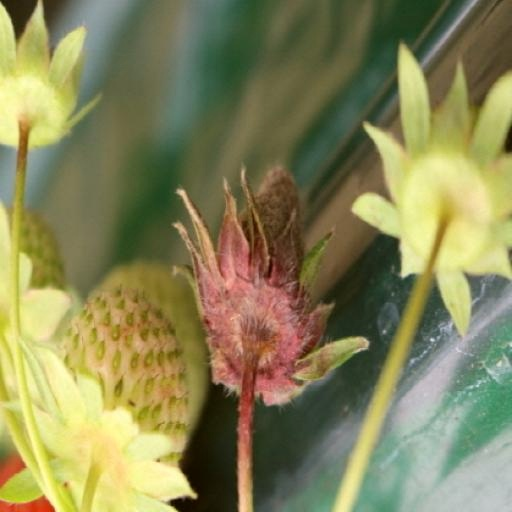Gray Mold: (176, 56, 342, 347)
